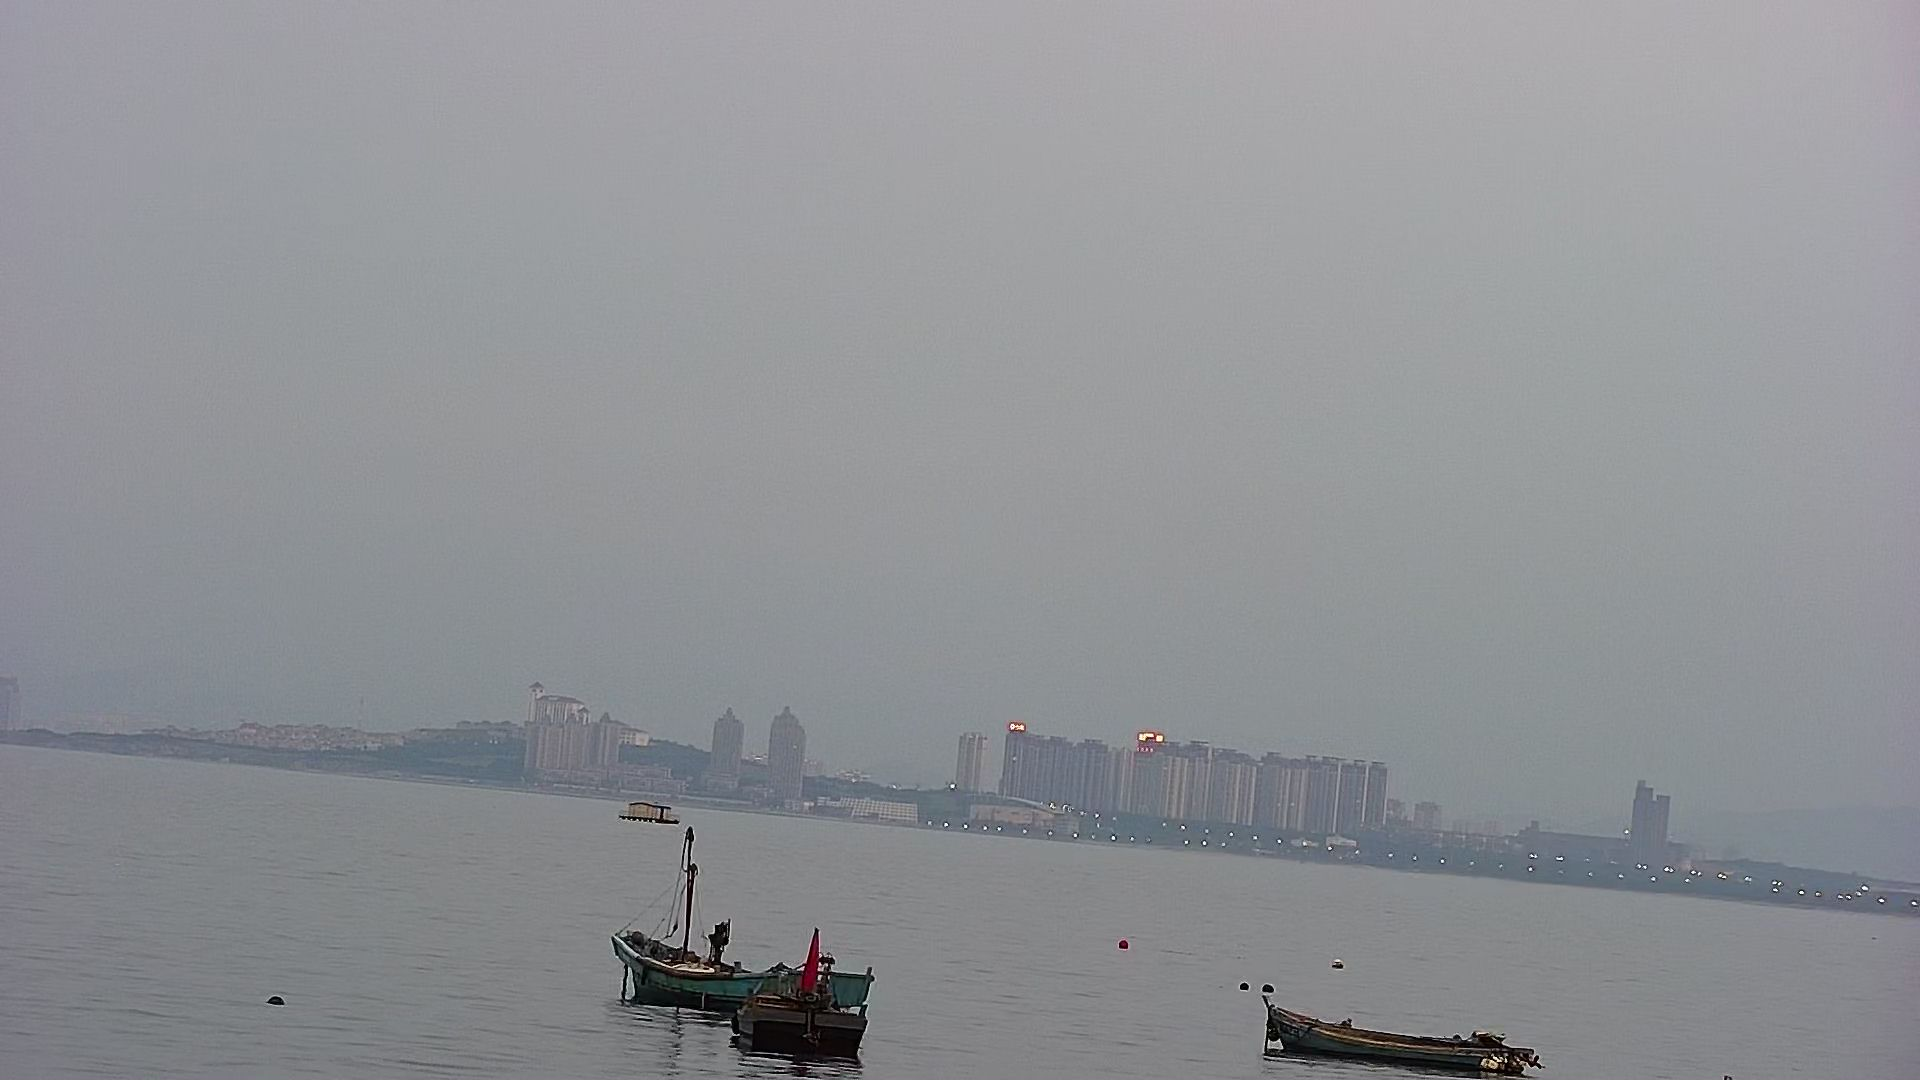boat: (1244, 1004, 1556, 1079), (621, 930, 769, 1015), (724, 988, 876, 1059)
platform: (613, 796, 676, 829)
